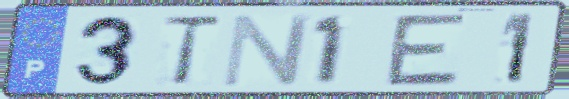1: (498, 10, 537, 88), (308, 13, 347, 86)
3: (73, 12, 140, 90)
E: (382, 11, 471, 89)
N: (218, 12, 317, 89)
T: (159, 13, 225, 88)
